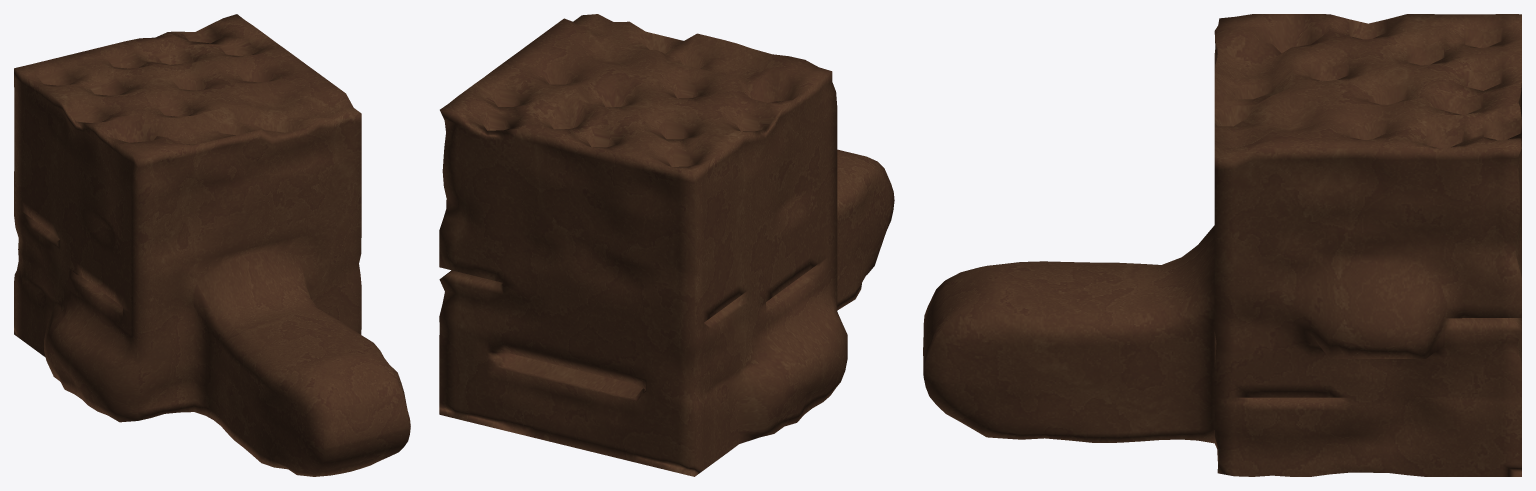
File: Cave_Final.fbx
3 views of the same model, side by side, from view 1: azimuth 30°, elevation 25°; view 2: azimuth 150°, elevation 25°; view 3: azimuth 270°, elevation 25° (orthographic). The views are drawn at different scales.
Visible parts, largest first — view 1: pPlane1; view 2: pPlane1; view 3: pPlane1.
Part boxes in pixels (x1,y1,x2,y2): pPlane1: [14, 14, 410, 476]; pPlane1: [439, 14, 894, 476]; pPlane1: [923, 14, 1521, 476].
Bounding box in the file's own units: 1037 × 947 × 1543.
Materials: 1 (1 with a texture image).
